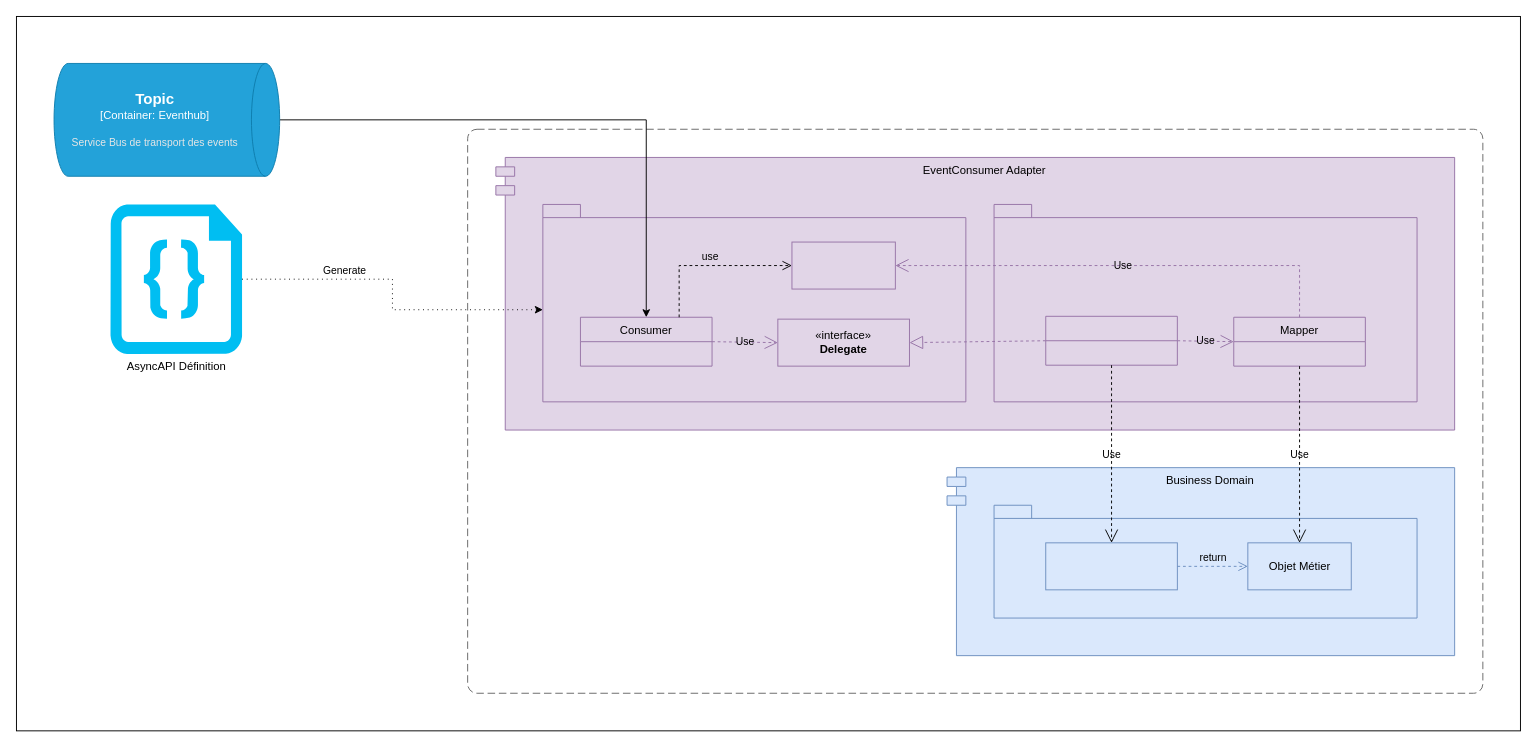
Image size: 1537x747. Some labels were removed from this diagram. Each missing label, with the box of its shape:
Application [Container]: (467, 128, 1483, 693)
Delegate Impl: (1045, 315, 1177, 365)
MessageDTO: (791, 241, 895, 289)
«interface» Service: (1045, 542, 1177, 590)
